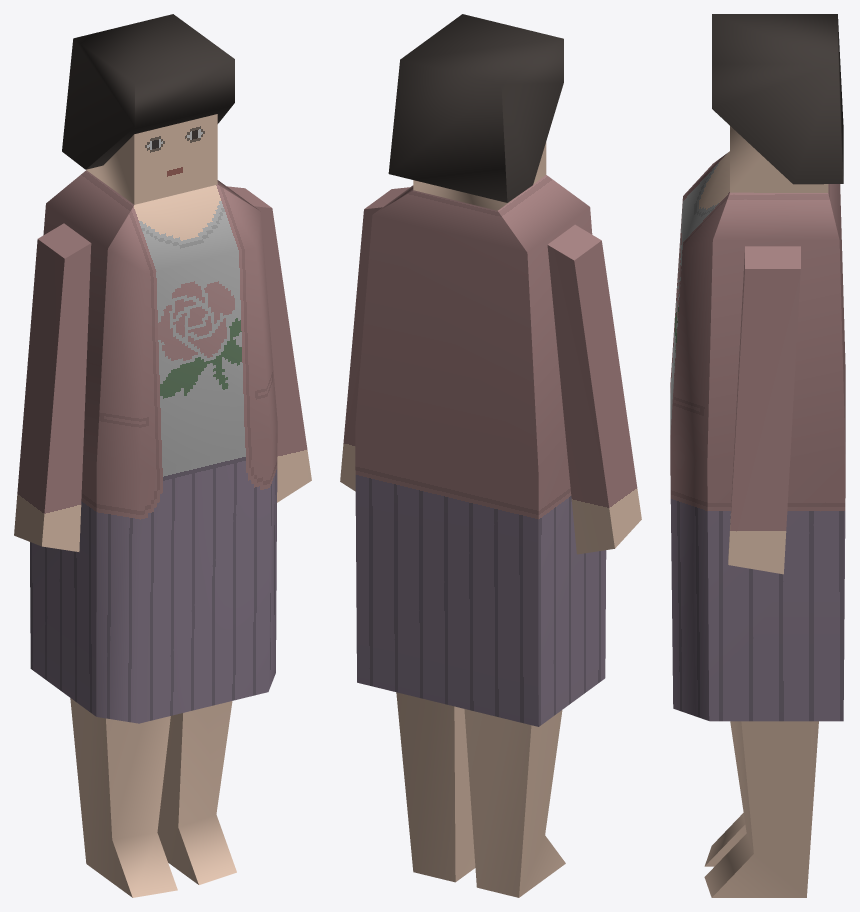
The model's file is 0592_Sleepy_Mom.glb.
3 views of the same model, side by side, from view 1: azimuth 30°, elevation 25°; view 2: azimuth 150°, elevation 25°; view 3: azimuth 270°, elevation 25° (orthographic). The views are drawn at different scales.
Parts seen in each view (by area): view 1: part_0; view 2: part_0; view 3: part_0.
Part boxes in pixels (x1,y1,x2,y2): part_0: [14, 14, 311, 897]; part_0: [340, 14, 641, 897]; part_0: [670, 14, 845, 897].
Bounding box in the file's own units: 0.4893 × 1.4 × 0.2678.
1 material, 1 textured.
